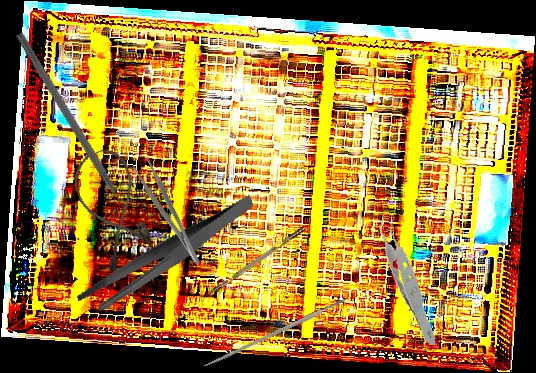Cannula: (66, 143, 160, 275)
Chopper: (5, 31, 133, 225), (195, 226, 310, 308)
Dressing Forceps: (63, 194, 270, 317), (130, 156, 204, 271)
Scalpel Handle: (203, 297, 348, 369)
Tissue Forceps: (359, 207, 460, 346)
